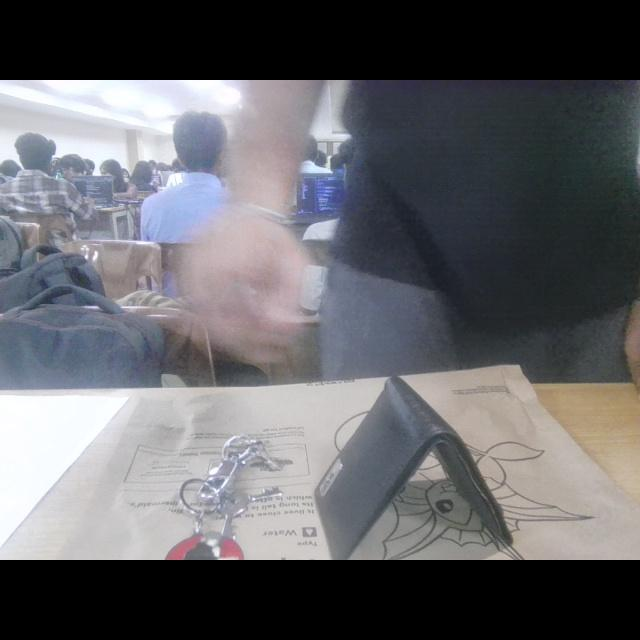keys: (160, 428, 308, 560)
wallet: (316, 368, 528, 560)
